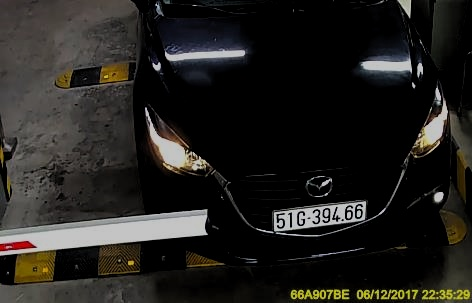plate: (273, 201, 363, 229)
